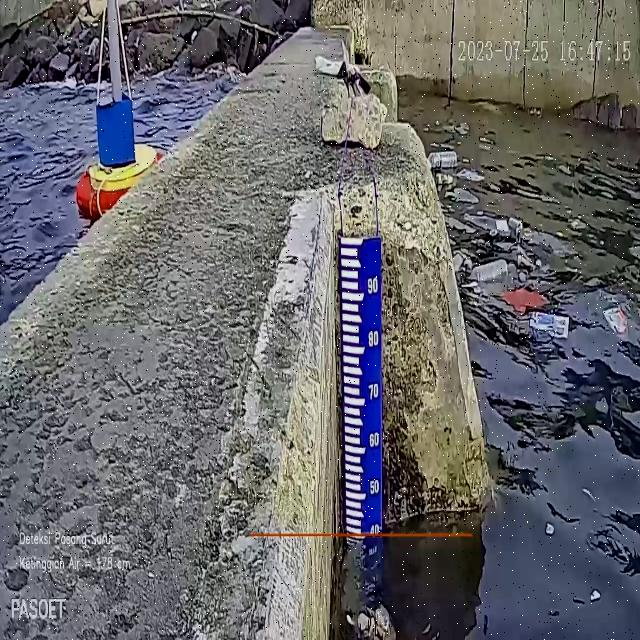50: (369, 479, 380, 495)
60: (369, 431, 380, 449)
70: (368, 382, 379, 401)
80: (368, 330, 378, 348)
90: (367, 274, 379, 296)
staff: (340, 235, 382, 535)
